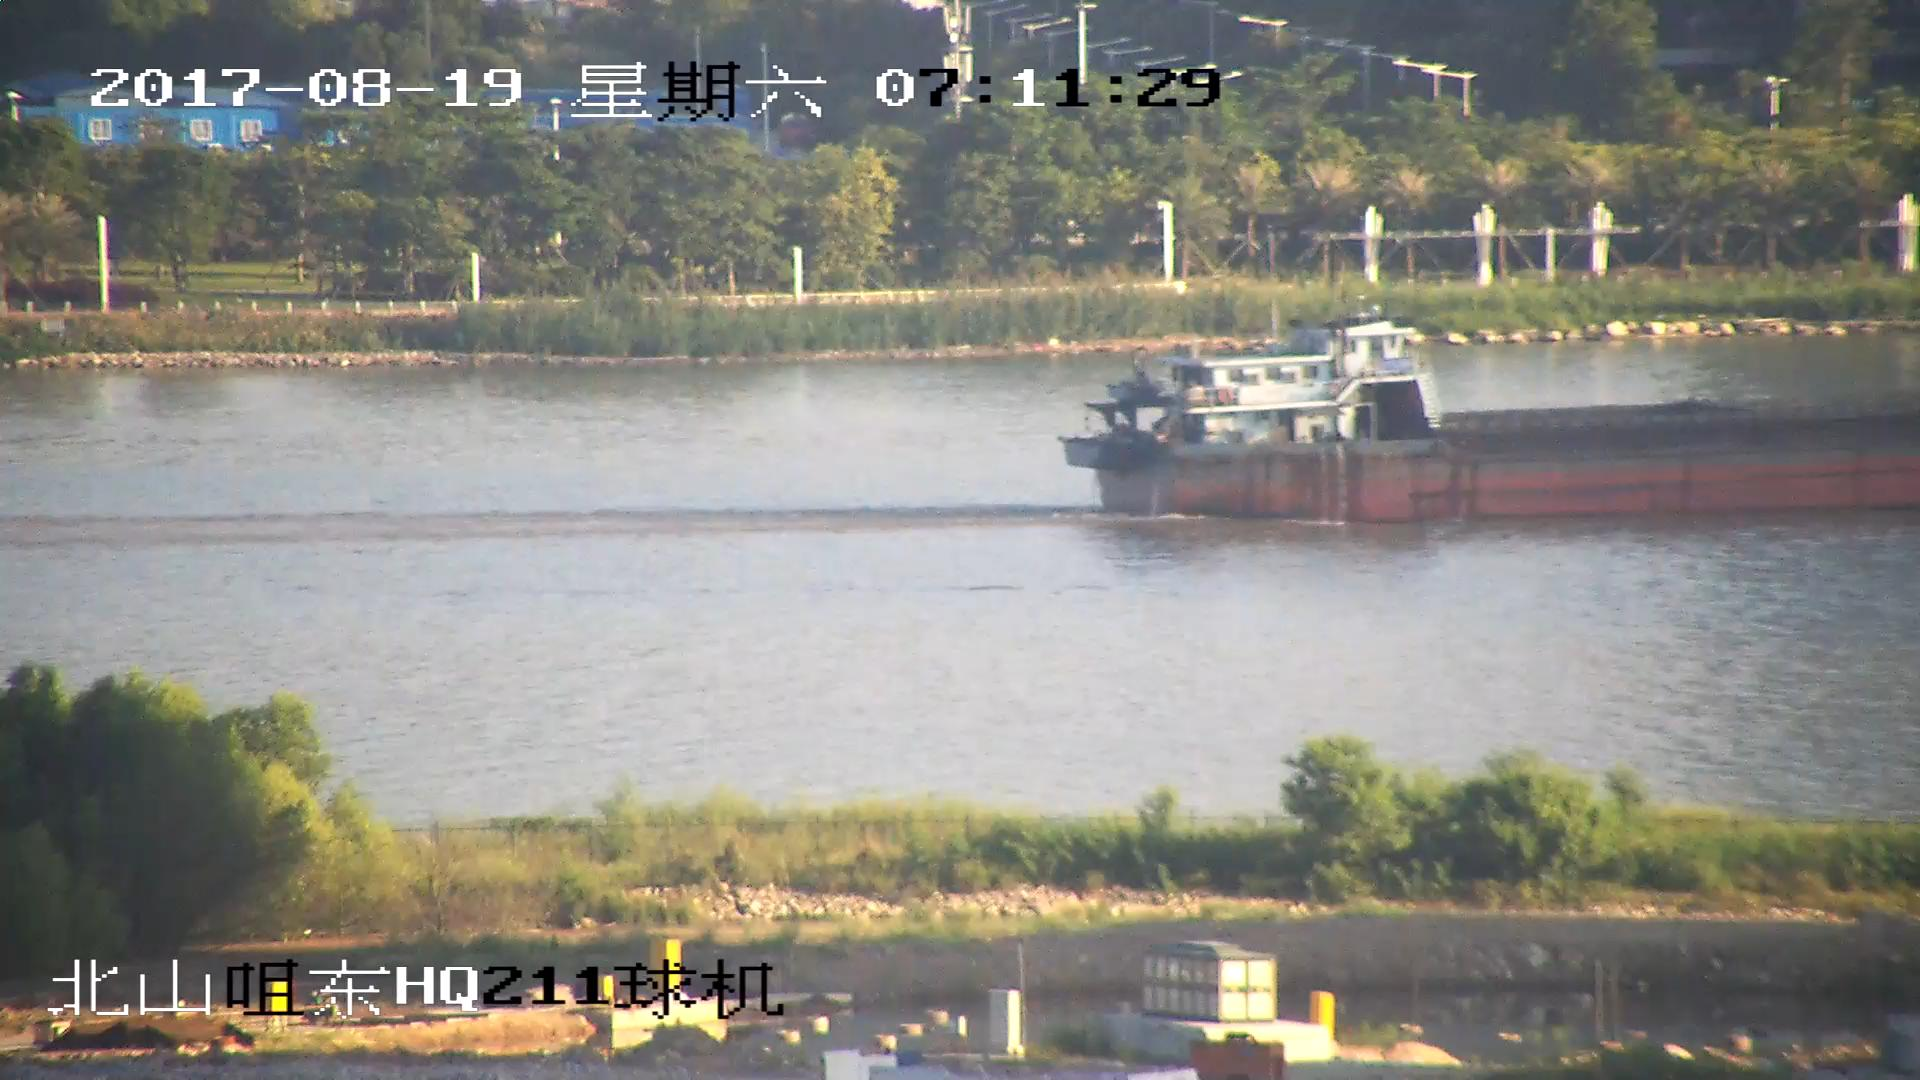bulk cargo carrier: (1063, 319, 1920, 528)
